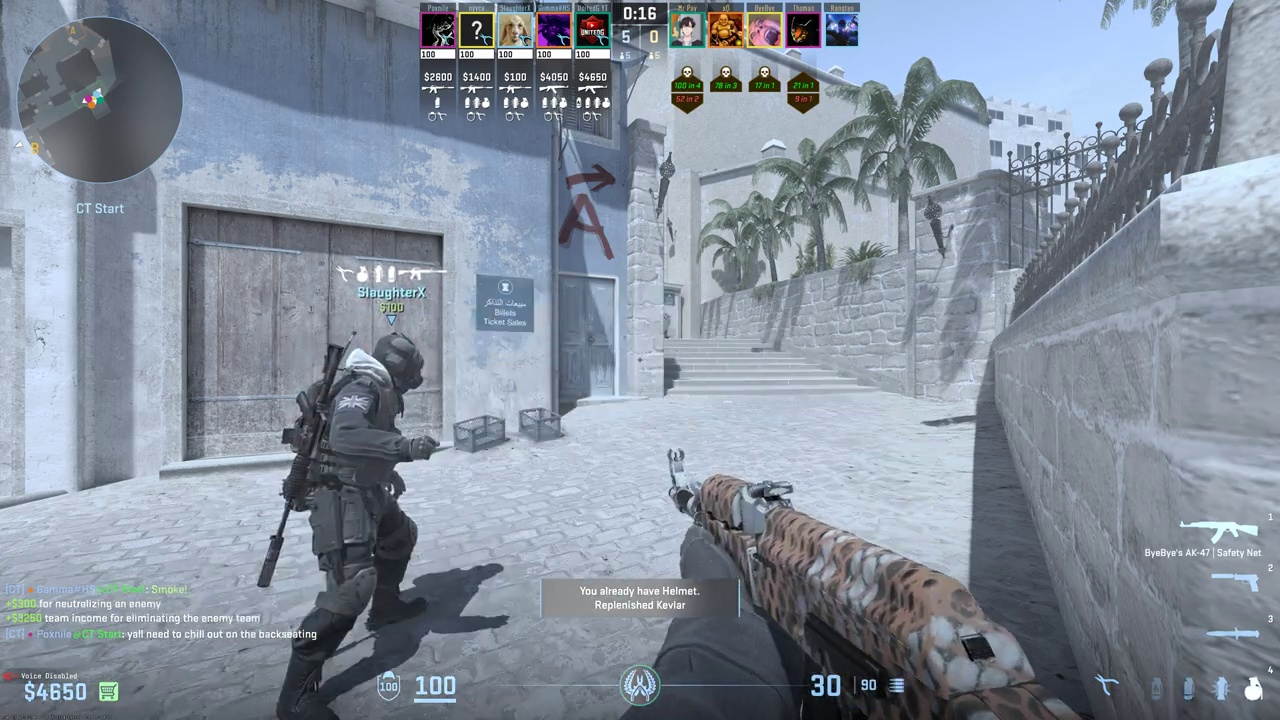CT: (277, 332, 438, 720)
